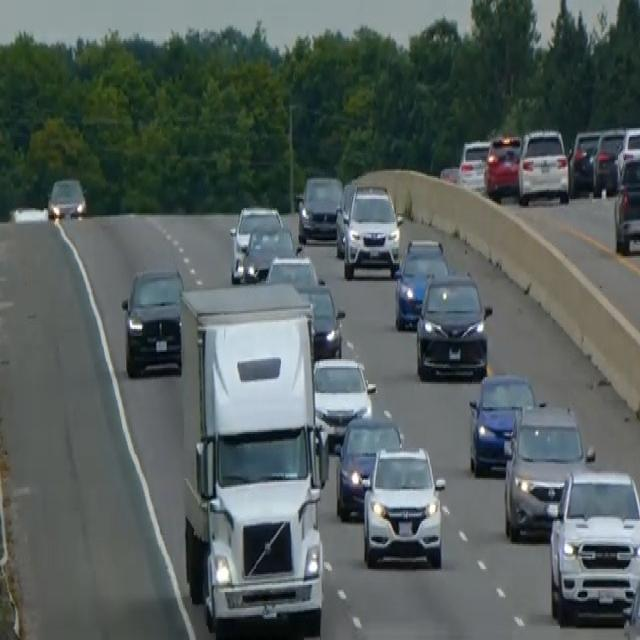car: (548, 466, 639, 626), (502, 400, 595, 542), (361, 443, 446, 569), (415, 270, 492, 380), (334, 413, 403, 519), (467, 370, 536, 474), (121, 265, 184, 377), (312, 354, 376, 448), (343, 181, 401, 279), (393, 236, 448, 329), (229, 203, 282, 281), (517, 126, 569, 204), (297, 279, 345, 357), (240, 222, 299, 281), (296, 172, 343, 244), (613, 153, 639, 254), (483, 132, 522, 199), (592, 126, 625, 196), (568, 128, 600, 194), (265, 252, 319, 288), (334, 178, 358, 256), (47, 176, 86, 220), (457, 137, 490, 188), (622, 553, 639, 638), (615, 125, 639, 183)
lorry: (176, 279, 330, 635)
